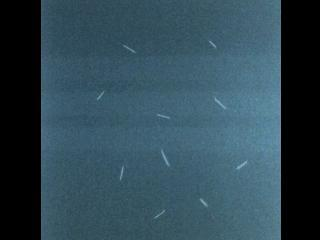scratch: (152, 204, 171, 221), (118, 41, 137, 54), (160, 147, 171, 168), (212, 96, 227, 111), (94, 86, 109, 101), (232, 158, 247, 171), (155, 114, 172, 125), (119, 162, 127, 181), (198, 197, 209, 209), (207, 39, 217, 50)
